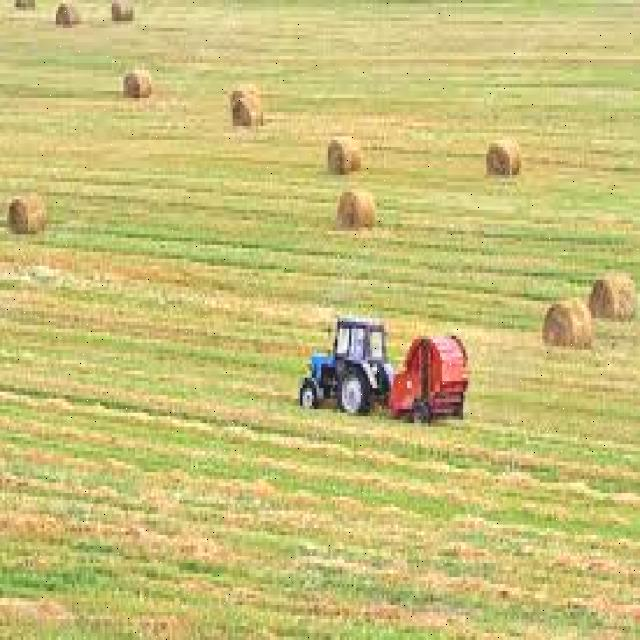Tratores - v5 YOLO V8L 2024-11-13: (300, 316, 390, 413)
